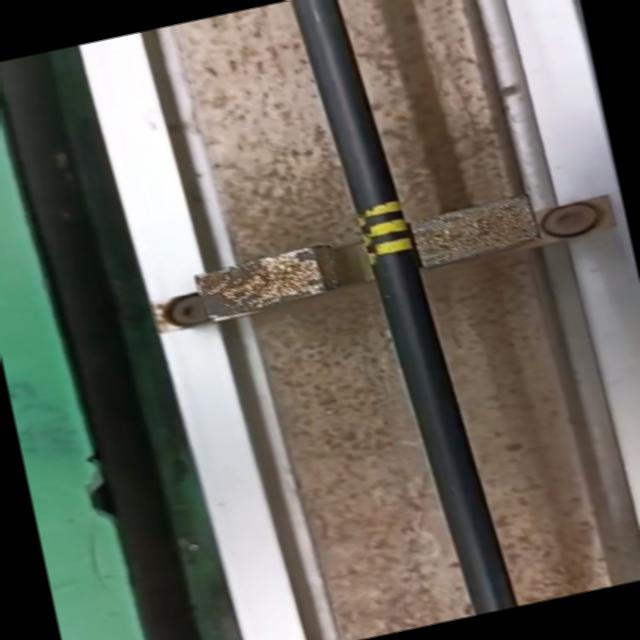yellow: (356, 198, 413, 260)
